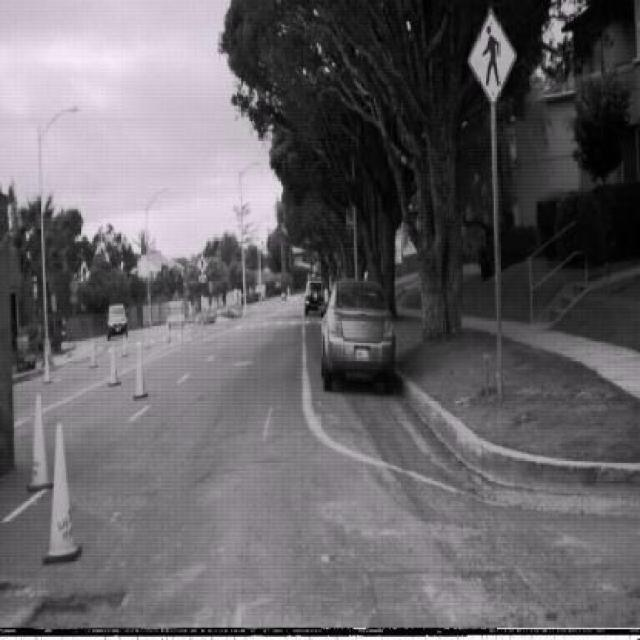pedestrianCrossing: (468, 8, 517, 107), (195, 252, 208, 277)
